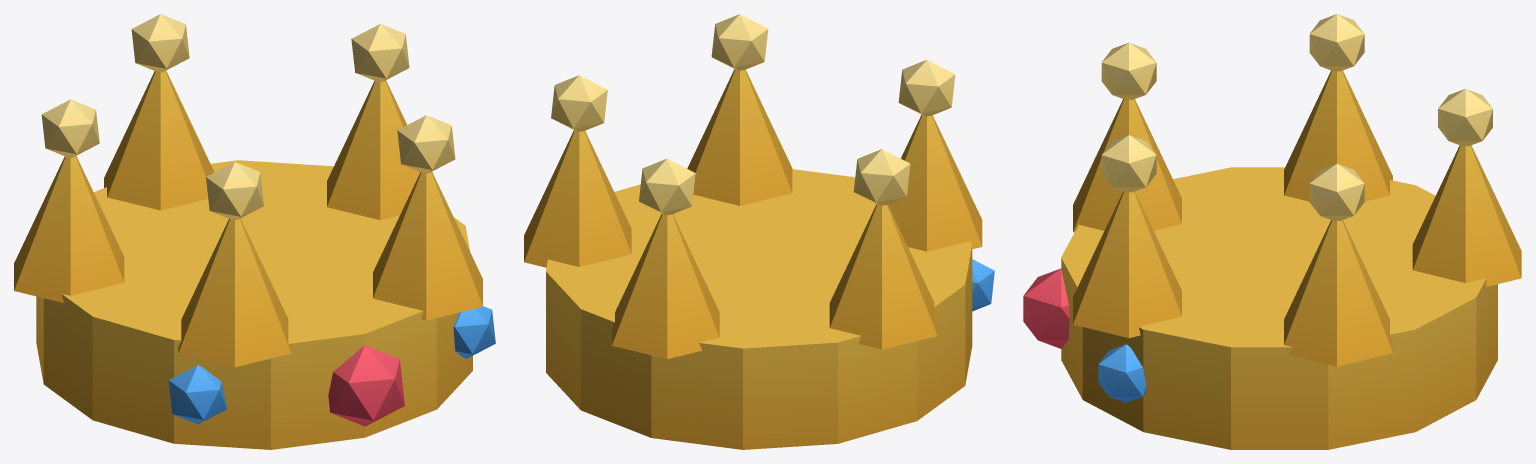
The model's file is crown.glb.
3 views of the same model, side by side, from view 1: azimuth 30°, elevation 25°; view 2: azimuth 150°, elevation 25°; view 3: azimuth 270°, elevation 25° (orthographic). The views are drawn at different scales.
Visible parts, largest first — view 1: crown_body; view 2: crown_body; view 3: crown_body.
Boxes of the visible parts, x1,y1,x2,y2 form: crown_body: (14,14,495,449); crown_body: (524,14,994,449); crown_body: (1023,14,1521,449).
Bounding box in the file's own units: 0.5975 × 0.37 × 0.6161.
1 material, 1 textured.
